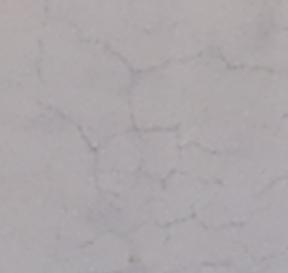fissura: (42, 43, 288, 273)
